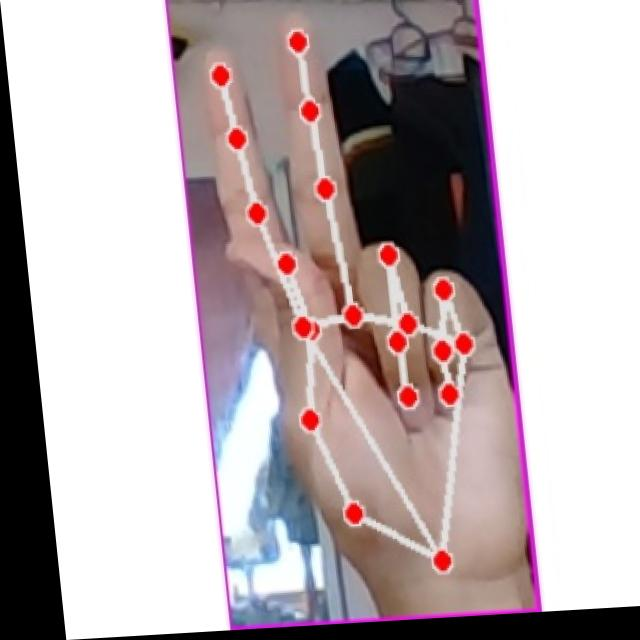K: (186, 14, 515, 598)
